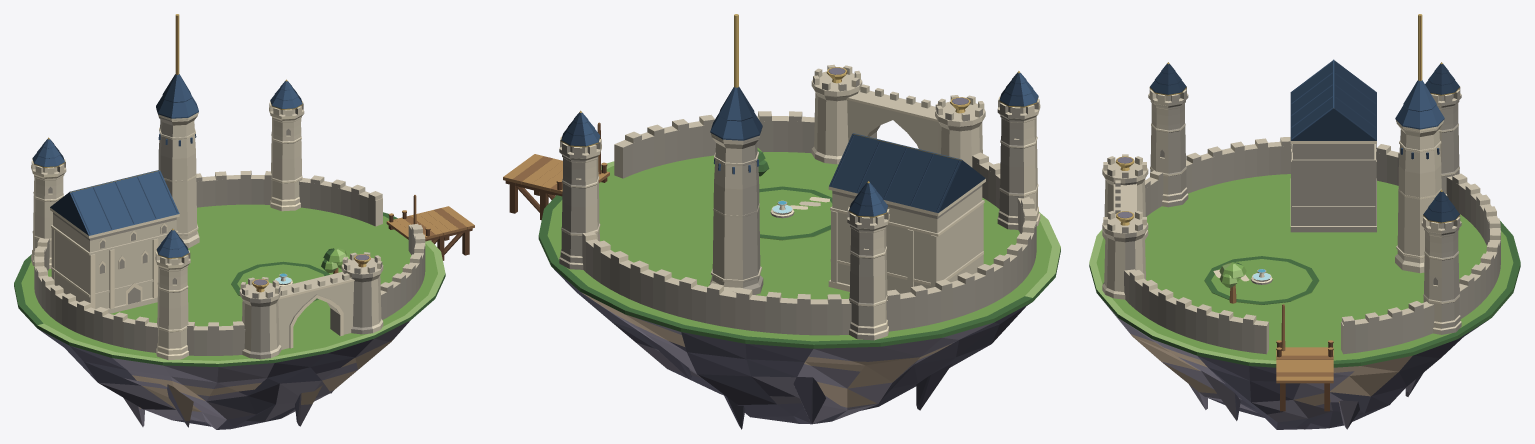
Rendered from skyport_world.glb.
The picture shows the model from 3 angles, left to right: view 1: azimuth 30°, elevation 25°; view 2: azimuth 150°, elevation 25°; view 3: azimuth 270°, elevation 25°; orthographic projection. The views are drawn at different scales.
Parts seen in each view (by area): view 1: floating_island, rampart, keep, gatehouse, banner_spire, T2, T3, T1, east_pier, courtyard; view 2: floating_island, rampart, keep, gatehouse, banner_spire, T1, T2, T3, courtyard, east_pier; view 3: floating_island, rampart, keep, banner_spire, gatehouse, T3, T2, courtyard, east_pier, T1.
Boxes of the visible parts, left/top/right/bottom form: floating_island: left=14, top=204, right=445, bottom=429; rampart: left=34, top=170, right=425, bottom=355; keep: left=50, top=170, right=179, bottom=313; gatehouse: left=239, top=252, right=383, bottom=359; banner_spire: left=156, top=14, right=199, bottom=248; T2: left=155, top=228, right=190, bottom=360; T3: left=269, top=79, right=304, bottom=211; T1: left=31, top=137, right=66, bottom=268; east_pier: left=386, top=195, right=474, bottom=260; courtyard: left=231, top=248, right=349, bottom=301; floating_island: left=538, top=152, right=1060, bottom=429; rampart: left=582, top=111, right=1036, bottom=335; keep: left=828, top=133, right=985, bottom=293; gatehouse: left=811, top=64, right=985, bottom=167; banner_spire: left=709, top=14, right=763, bottom=294; T1: left=847, top=181, right=889, bottom=340; T2: left=997, top=71, right=1040, bottom=229; T3: left=559, top=110, right=601, bottom=269; courtyard: left=757, top=147, right=832, bottom=240; east_pier: left=503, top=122, right=609, bottom=220; floating_island: left=1089, top=174, right=1520, bottom=429; rampart: left=1124, top=137, right=1500, bottom=354; keep: left=1290, top=59, right=1376, bottom=232; banner_spire: left=1395, top=14, right=1444, bottom=273; gatehouse: left=1102, top=154, right=1148, bottom=299; T3: left=1421, top=189, right=1461, bottom=334; T2: left=1148, top=62, right=1188, bottom=207; courtyard: left=1204, top=256, right=1319, bottom=304; east_pier: left=1276, top=304, right=1333, bottom=411; T1: left=1425, top=62, right=1461, bottom=195.
Bounding box in the file's own units: 75 × 63 × 60.
8 materials, 8 textured.
